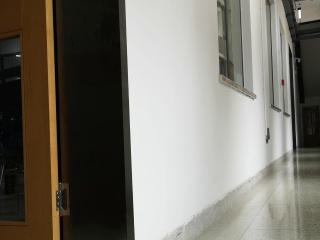room: (2, 2, 140, 240)
